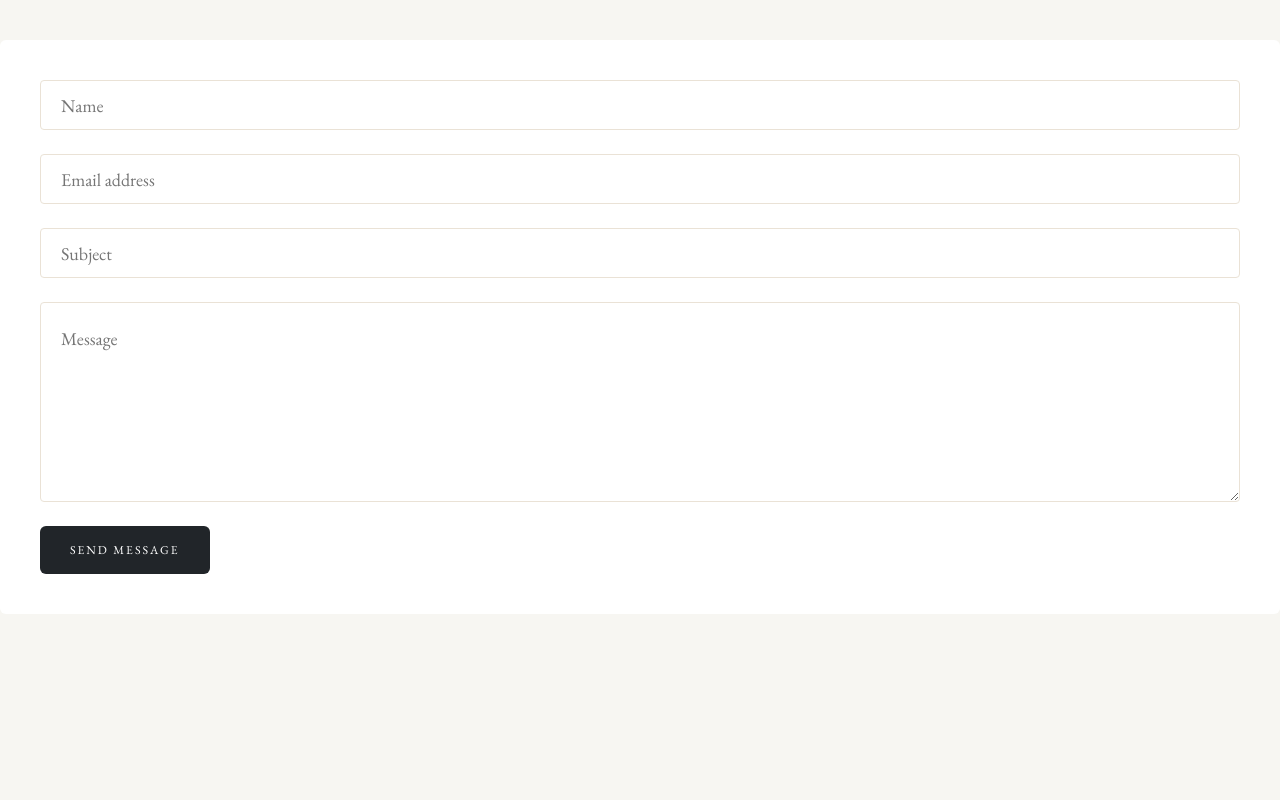
Test: ContactForm component › shows error message for invalid email
Type "invalid-email" into the field labelled "Email address" at (640, 179), box [40,154,1240,204]
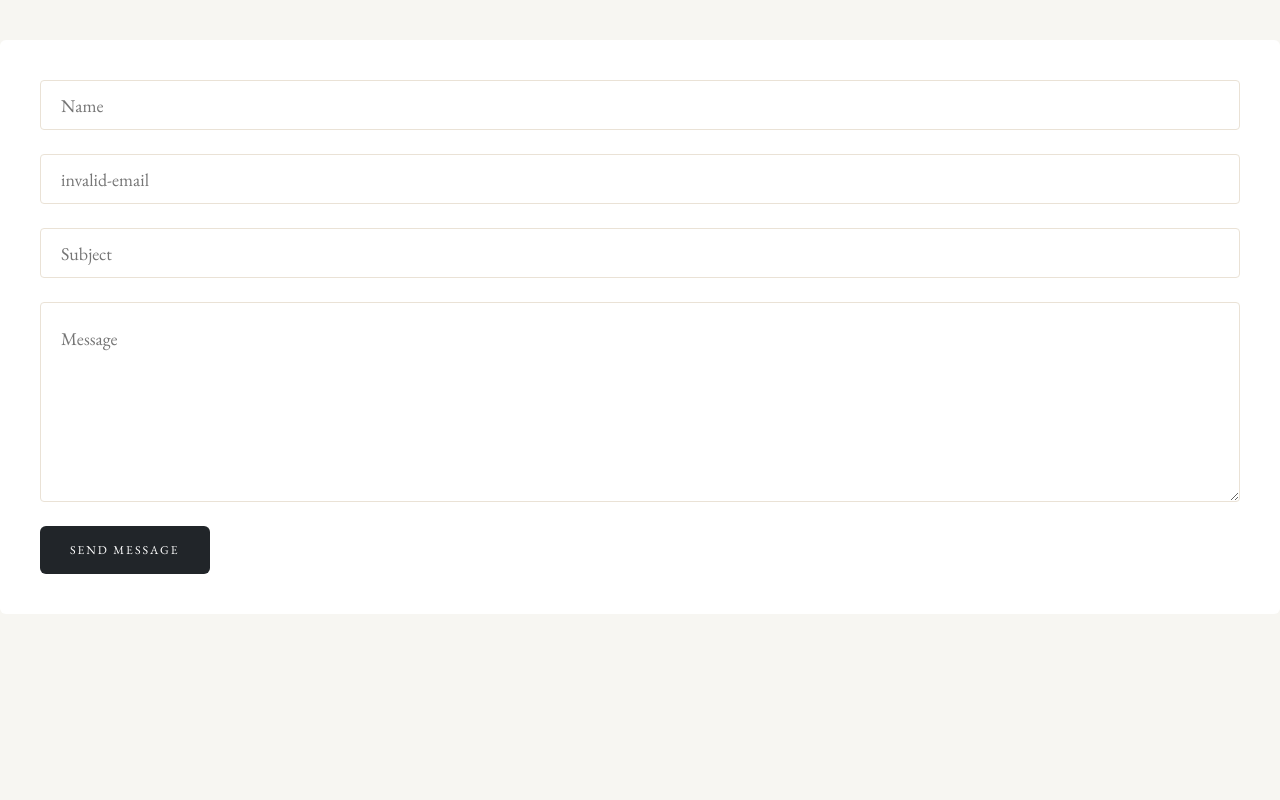
Click the button "Send message" at (125, 550), box [40,526,210,574]
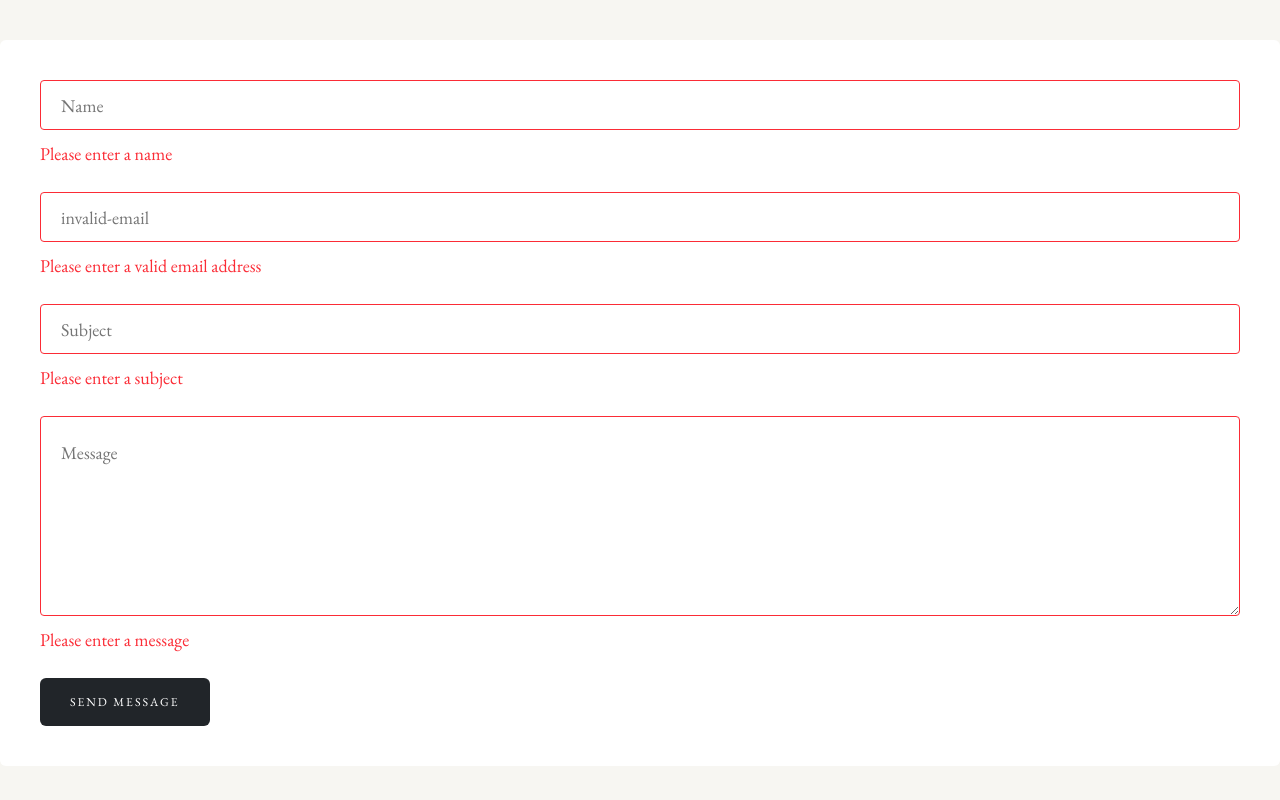
Expected: the text "Please enter a valid email address" is shown, [40,254,261,277]
